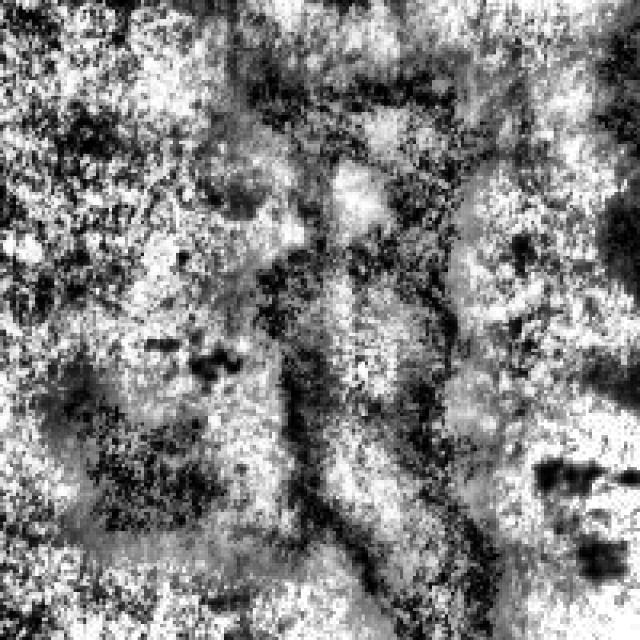Scratches: (250, 35, 508, 630), (38, 349, 221, 560)
